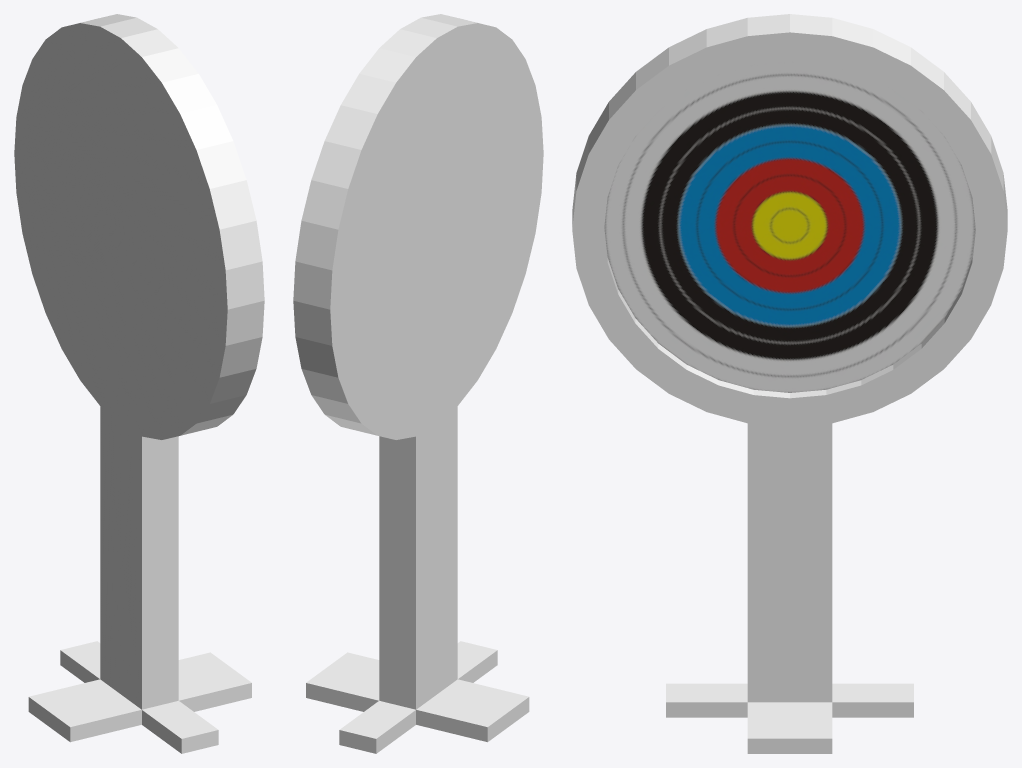
File: target.fbx
3 renders of one model, left to right at view 1: azimuth 30°, elevation 25°; view 2: azimuth 150°, elevation 25°; view 3: azimuth 270°, elevation 25°, orthographic. The views are drawn at different scales.
Visible parts, largest first — view 1: Target; view 2: Target; view 3: Target.
Part boxes in pixels (x1=…): Target: x1=14, y1=14, x2=264, y2=753; Target: x1=293, y1=14, x2=543, y2=753; Target: x1=572, y1=14, x2=1007, y2=753.
Bounding box in the file's own units: 200 × 98.39 × 347.
1 material, 1 textured.
